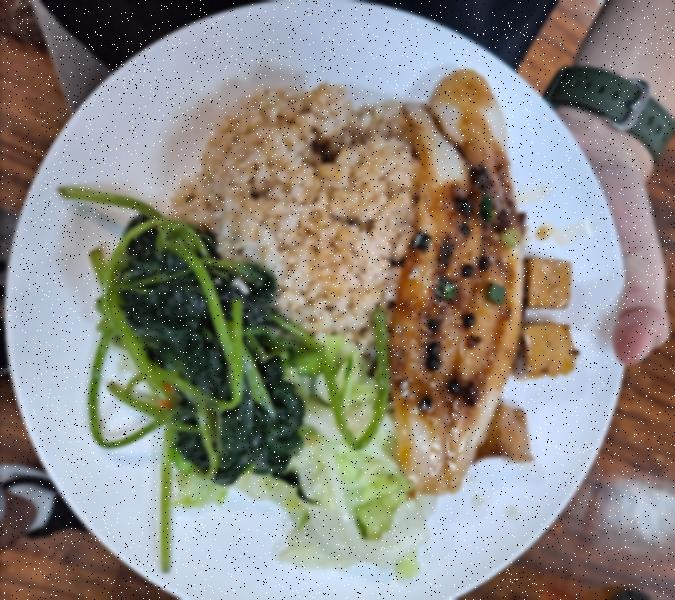braised fish fillet: (406, 63, 522, 483)
brown rice: (220, 90, 416, 312)
plate: (13, 12, 640, 599)
side dish: (85, 205, 294, 485), (289, 354, 396, 566), (521, 243, 582, 390)
